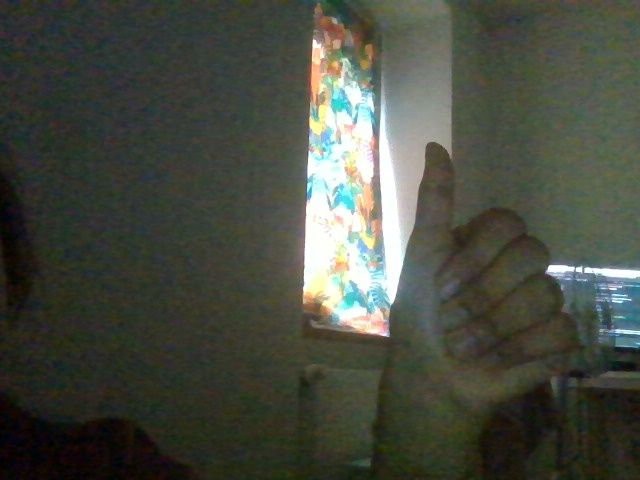Thumbs up: (346, 119, 587, 422)
